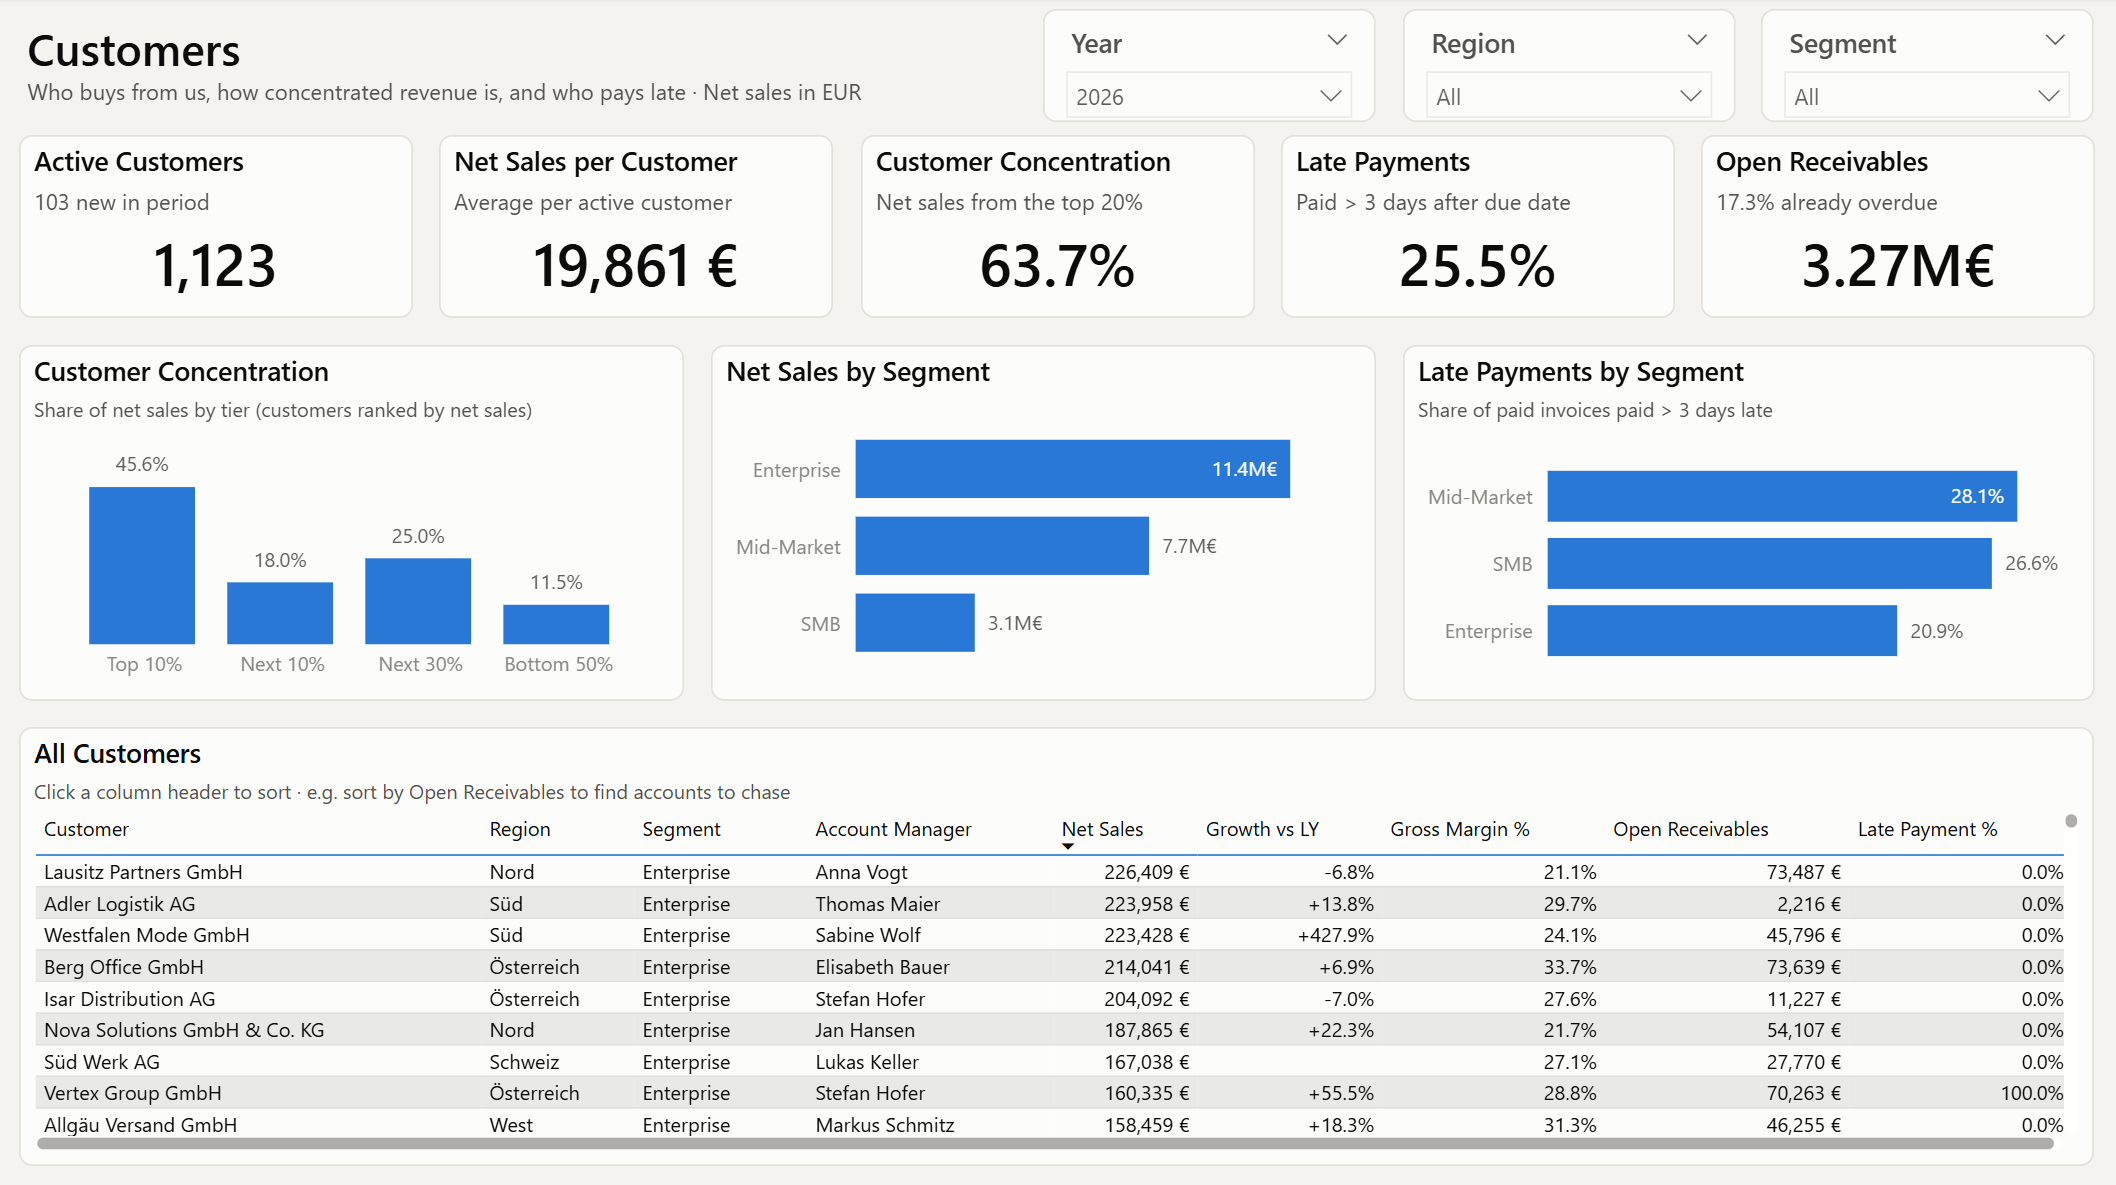

What the dashboard file says about the page in this screenshot:
{"tool":"powerbi","page":{"name":"Customers","canvas":[1280,720],"ordinal":2},"visuals":[{"type":"textbox","box":[16,8,600,70],"z":0},{"type":"slicer","fields":{"Values":["dim_date.year"]},"box":[632,8,200,68],"z":1000},{"type":"slicer","fields":{"Values":["dim_customer.region"]},"box":[848,8,200,68],"z":2000},{"type":"slicer","fields":{"Values":["dim_customer.segment"]},"box":[1064,8,200,68],"z":3000},{"type":"card","title":"Active Customers","fields":{"Values":["_measures.Active Customers"]},"box":[16,84,236.8,110],"z":4000},{"type":"card","title":"Net Sales per Customer","fields":{"Values":["_measures.Net Sales per Customer"]},"box":[268.8,84,236.8,110],"z":5000},{"type":"card","title":"Customer Concentration","fields":{"Values":["_measures.Top 20% Customer Share"]},"box":[521.6,84,236.8,110],"z":6000},{"type":"card","title":"Late Payments","fields":{"Values":["_measures.Late Payment %"]},"box":[774.4,84,236.8,110],"z":7000},{"type":"card","title":"Open Receivables","fields":{"Values":["_measures.Open Receivables"]},"box":[1027.2,84,236.8,110],"z":8000},{"type":"clusteredColumnChart","title":"Customer Concentration","fields":{"Category":["customer_tier.Tier"],"Y":["_measures.Share of Net Sales"]},"box":[16,210,400,214],"z":9000},{"type":"clusteredBarChart","title":"Net Sales by Segment","fields":{"Category":["dim_customer.segment"],"Y":["_measures.Net Sales"]},"box":[432,210,400,214],"z":10000},{"type":"clusteredBarChart","title":"Late Payments by Segment","fields":{"Category":["dim_customer.segment"],"Y":["_measures.Late Payment %"]},"box":[848,210,416,214],"z":11000},{"type":"tableEx","title":"All Customers","fields":{"Values":["dim_customer.customer_name","dim_customer.region","dim_customer.segment","dim_customer.account_manager","_measures.Net Sales","_measures.Net Sales YoY %","_measures.Gross Margin %","_measures.Open Receivables","_measures.Late Payment %"]},"box":[16,440,1248,264],"z":12000}]}

Visuals, with their boxes in screenshot pixels (x1, y1, x2, y2), scaled from the page's 1280x720 canvas onto the 2116x1185 screenshot:
textbox: locate(26, 13, 1018, 128)
slicer - dim_date.year: locate(1045, 13, 1375, 125)
slicer - dim_customer.region: locate(1402, 13, 1732, 125)
slicer - dim_customer.segment: locate(1759, 13, 2090, 125)
"Active Customers" card: locate(26, 138, 418, 319)
"Net Sales per Customer" card: locate(444, 138, 836, 319)
"Customer Concentration" card: locate(862, 138, 1254, 319)
"Late Payments" card: locate(1280, 138, 1672, 319)
"Open Receivables" card: locate(1698, 138, 2090, 319)
"Customer Concentration" clusteredColumnChart: locate(26, 346, 688, 698)
"Net Sales by Segment" clusteredBarChart: locate(714, 346, 1375, 698)
"Late Payments by Segment" clusteredBarChart: locate(1402, 346, 2090, 698)
"All Customers" tableEx: locate(26, 724, 2090, 1159)
